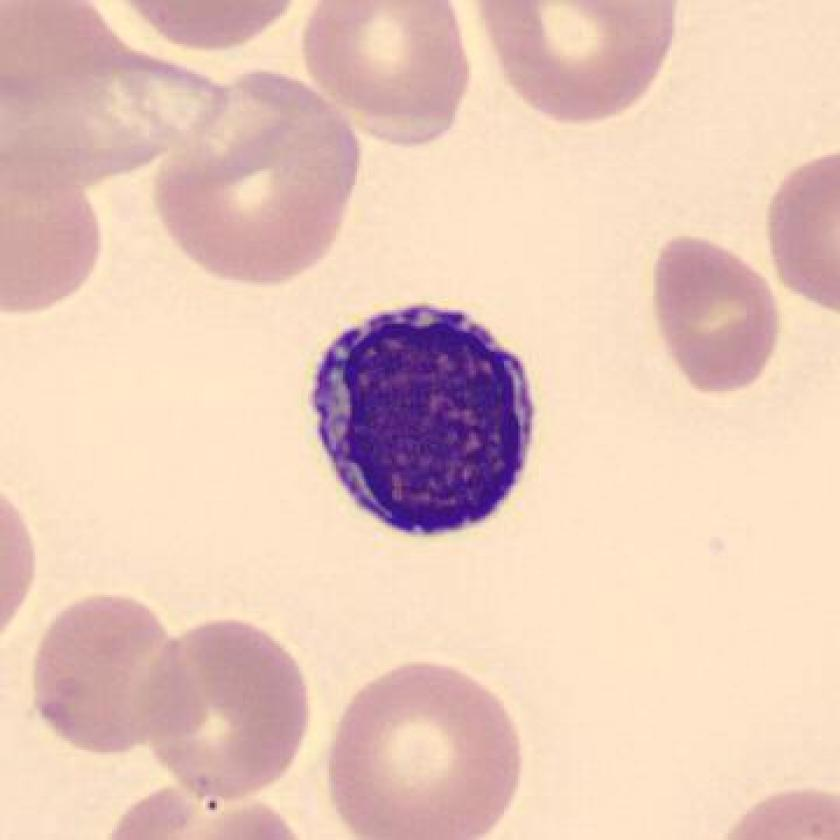lymphocyte: (290, 286, 561, 559)
